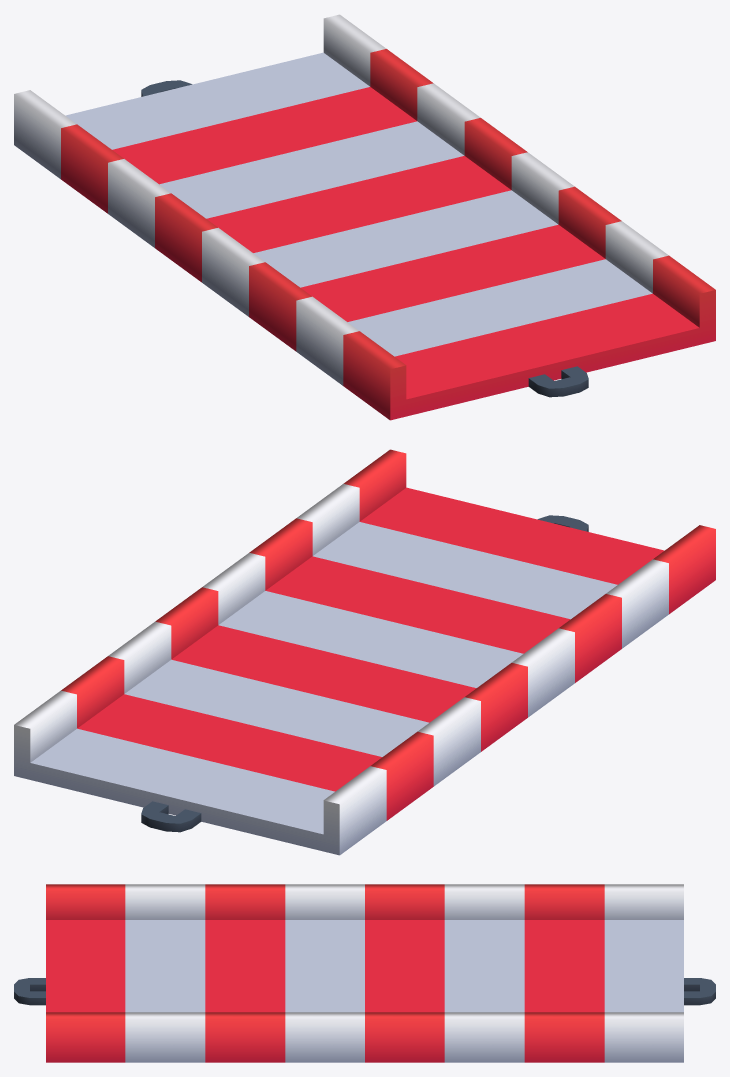
Rendered from track-striped-wide-straight.fbx.
3 views of the same model, one above another, from view 1: azimuth 30°, elevation 25°; view 2: azimuth 150°, elevation 25°; view 3: azimuth 270°, elevation 25° (orthographic). The views are drawn at different scales.
Parts seen in each view (by area): view 1: track-striped-wide-straight; view 2: track-striped-wide-straight; view 3: track-striped-wide-straight.
Part boxes in pixels (<box>): track-striped-wide-straight: <box>14,14,715,420</box>; track-striped-wide-straight: <box>14,449,715,855</box>; track-striped-wide-straight: <box>14,884,715,1062</box>.
Size of the model in its own units: 200 by 30 by 440.
